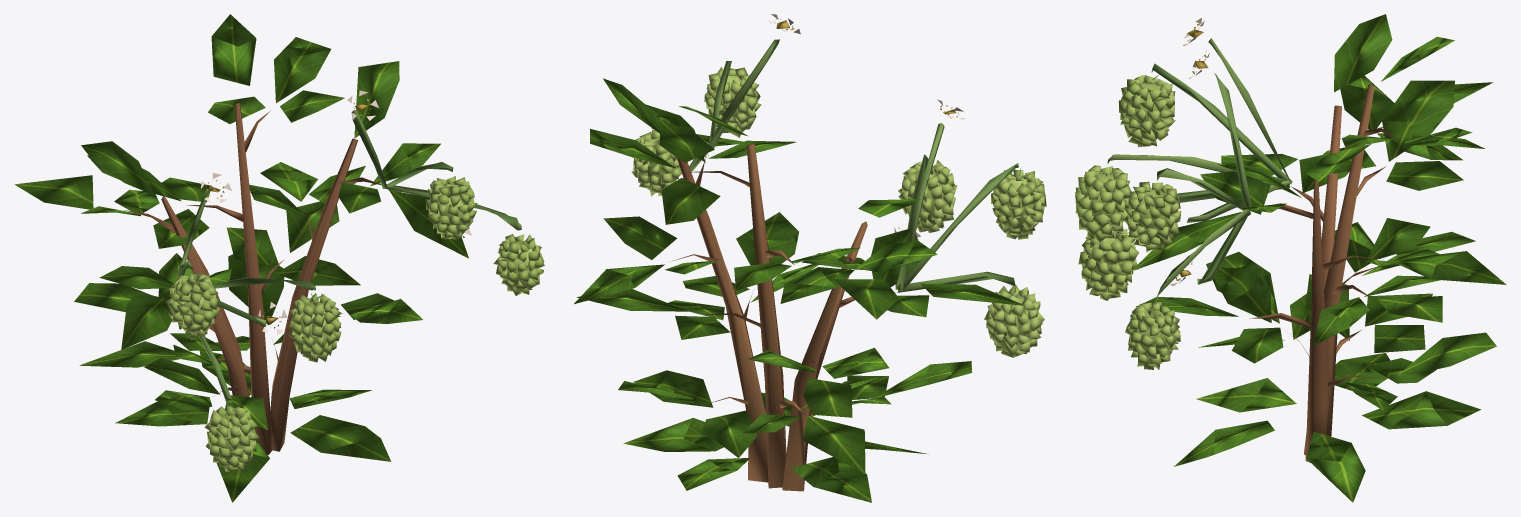
The model's file is NP_Raspberry_Flowering_LOD1.fbx.
The picture shows the model from 3 angles, left to right: view 1: azimuth 30°, elevation 25°; view 2: azimuth 150°, elevation 25°; view 3: azimuth 270°, elevation 25°; orthographic projection. The views are drawn at different scales.
Visible parts, largest first — view 1: NP_Raspberry_Flowering; view 2: NP_Raspberry_Flowering; view 3: NP_Raspberry_Flowering.
Part boxes in pixels (x1=…): NP_Raspberry_Flowering: x1=14, y1=14, x2=544, y2=502; NP_Raspberry_Flowering: x1=574, y1=14, x2=1046, y2=502; NP_Raspberry_Flowering: x1=1075, y1=14, x2=1506, y2=502.
Bounding box in the file's own units: 91.39 × 86.16 × 78.29.
